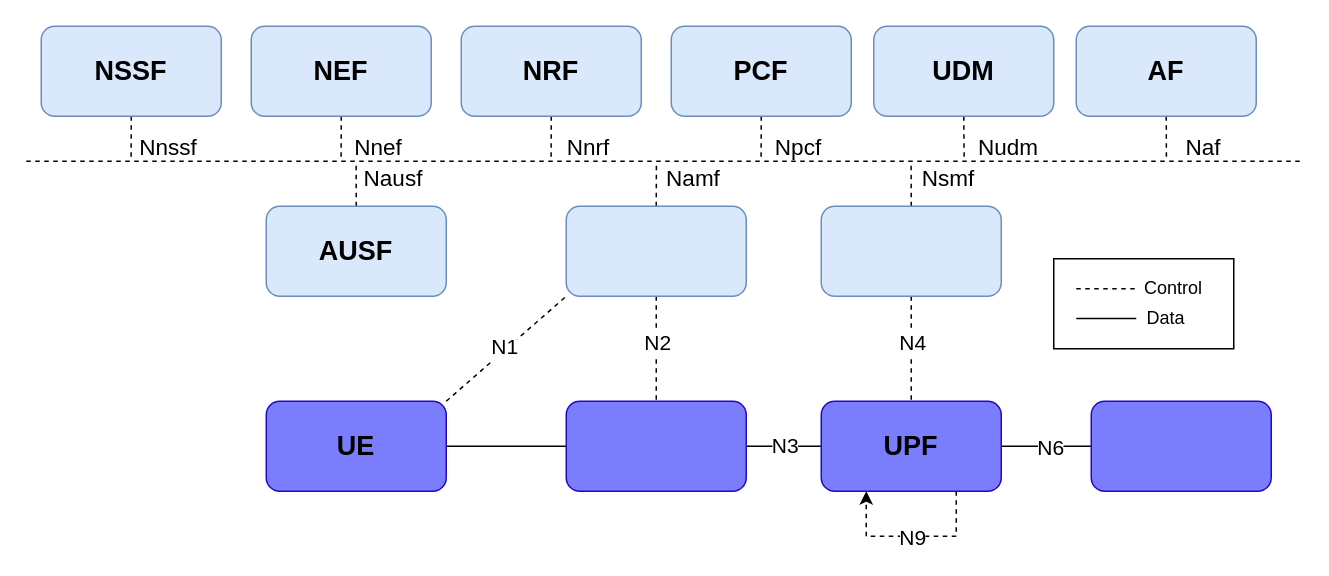
Some shapes in this 1329 by 576 pixel diagram are drawn without their labels. The centre of each missing label's shape, as x and y in pixels:
AMF: (x=655, y=250)
DN: (x=1180, y=445)
RAN: (x=655, y=445)
SMF: (x=910, y=250)
